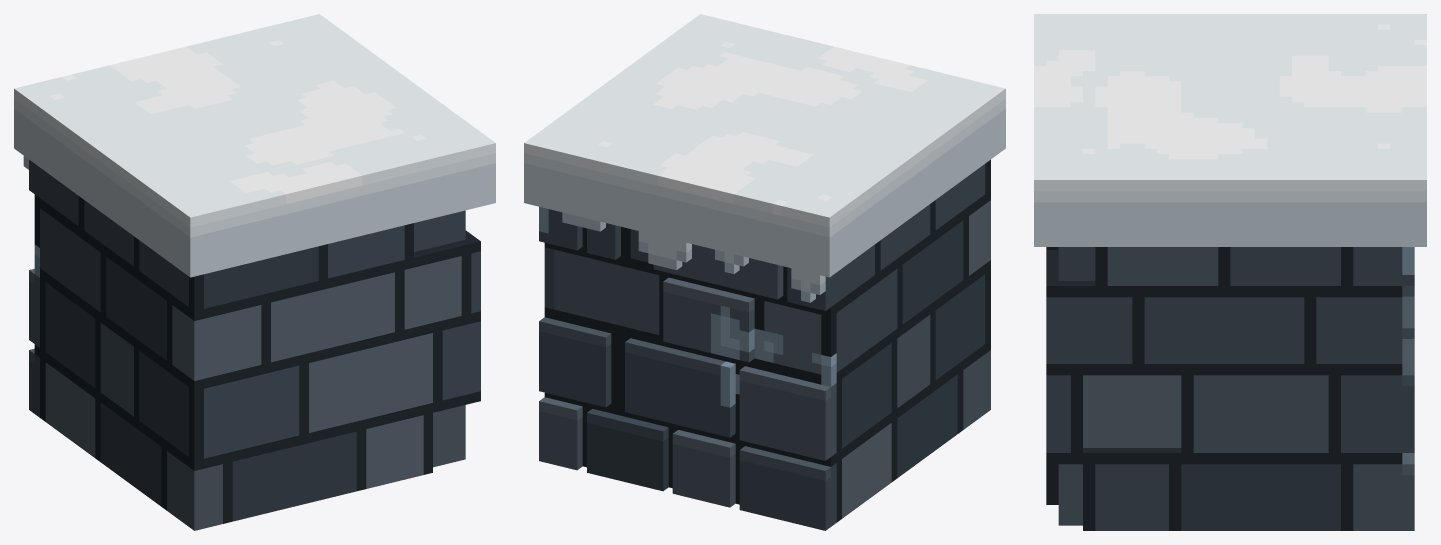
File: Wall_C3_Base.obj
3 views of the same model, side by side, from view 1: azimuth 30°, elevation 25°; view 2: azimuth 150°, elevation 25°; view 3: azimuth 270°, elevation 25° (orthographic). The views are drawn at different scales.
Parts seen in each view (by area): view 1: Wall_C3_Base; view 2: Wall_C3_Base; view 3: Wall_C3_Base.
Part boxes in pixels (bbox=[...]): Wall_C3_Base: bbox=[14, 14, 495, 530]; Wall_C3_Base: bbox=[524, 14, 1005, 530]; Wall_C3_Base: bbox=[1034, 14, 1426, 530].
Bounding box in the file's own units: 3.2 × 3.2 × 3.2.
Materials: 1 (1 with a texture image).
